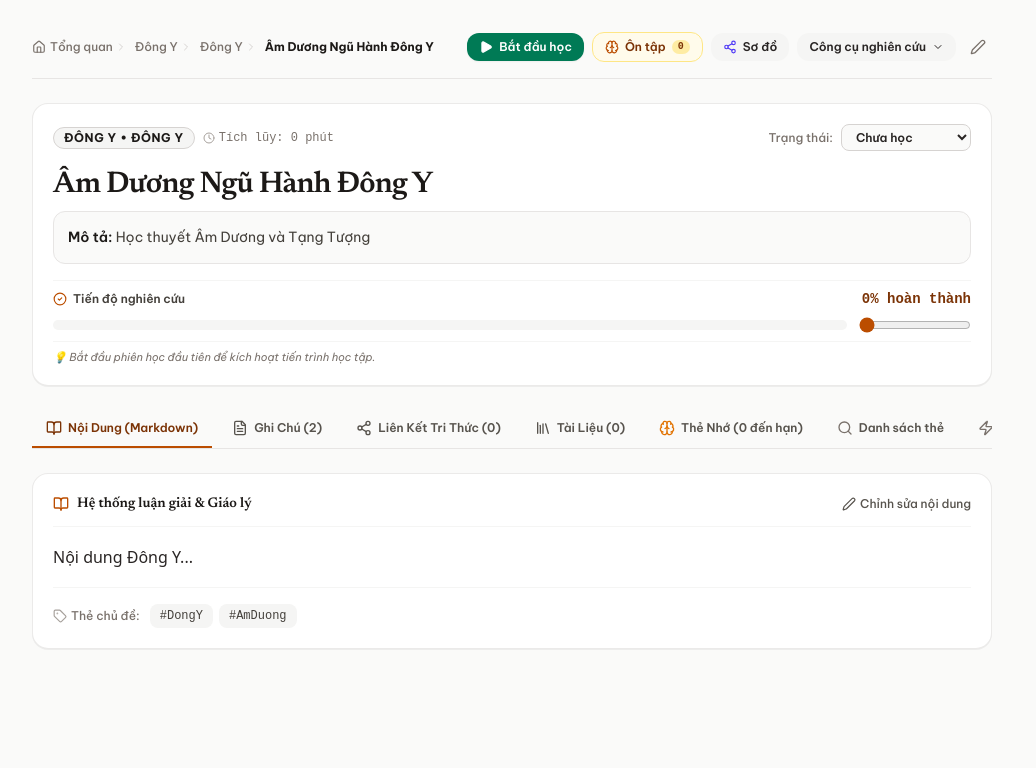
Option A: Topic-scoped Research Notes in TopicDetail › 2. Multi-topic note is displayed under both associated topics without duplication
Click the button with test id "tab-btn-notes" at (277, 429), box 218,410 -> 336,448
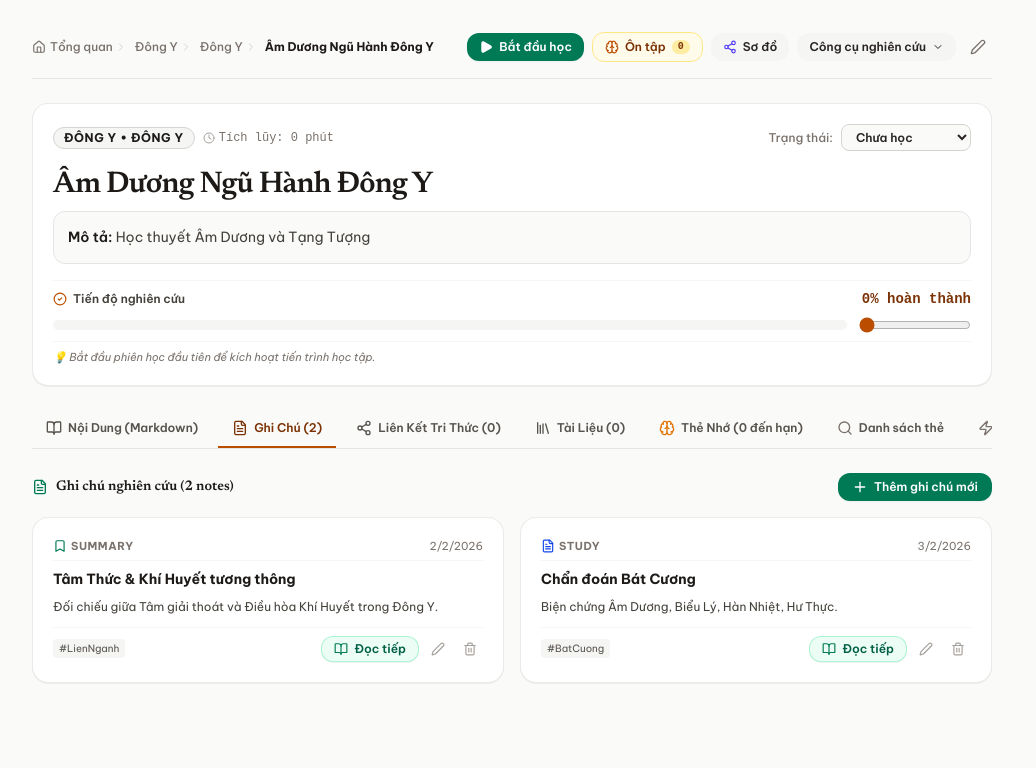
Expected: the heading "Chẩn đoán Bát Cương" is shown, 541,570 -> 696,588
Expected: the number of headings "Tâm Thức & Khí Huyết tương thông" is 1, 53,570 -> 296,588
